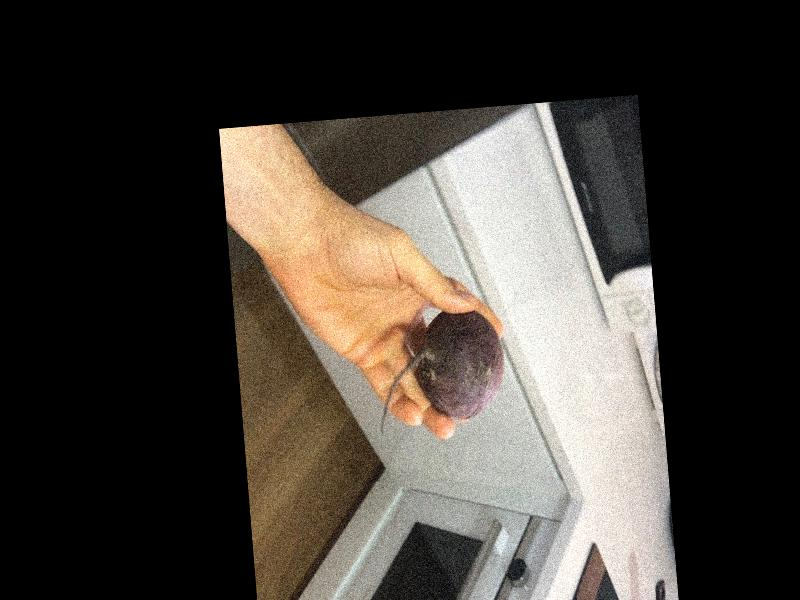Beet: (370, 307, 509, 436)
